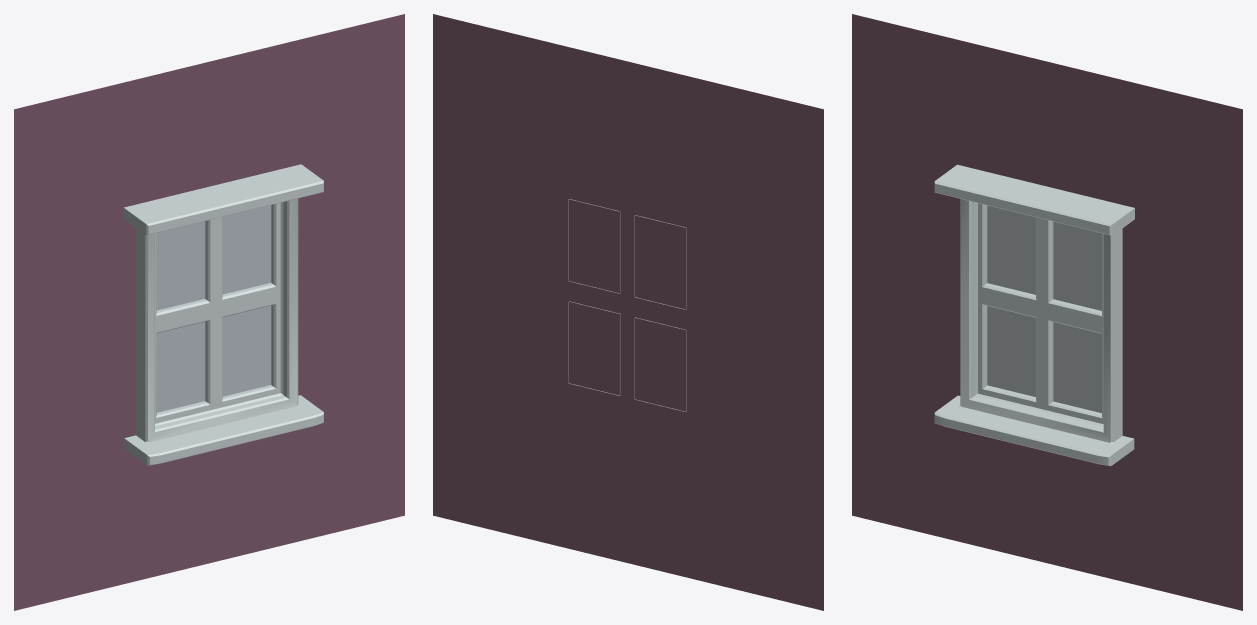
The model's file is fbx_oldbuilding_wall_p2.fbx.
3 renders of one model, left to right at view 1: azimuth 30°, elevation 25°; view 2: azimuth 150°, elevation 25°; view 3: azimuth 330°, elevation 25°, orthographic.
Visible parts, largest first — view 1: fbx_oldbuilding_wall_p2; view 2: fbx_oldbuilding_wall_p2; view 3: fbx_oldbuilding_wall_p2.
Boxes of the visible parts, left/top/right/bottom form: fbx_oldbuilding_wall_p2: left=14, top=14, right=404, bottom=610; fbx_oldbuilding_wall_p2: left=433, top=14, right=823, bottom=610; fbx_oldbuilding_wall_p2: left=852, top=14, right=1242, bottom=610.
Size of the model in its own units: 1.92 by 2.35 by 0.2369.
2 materials, 1 textured.
